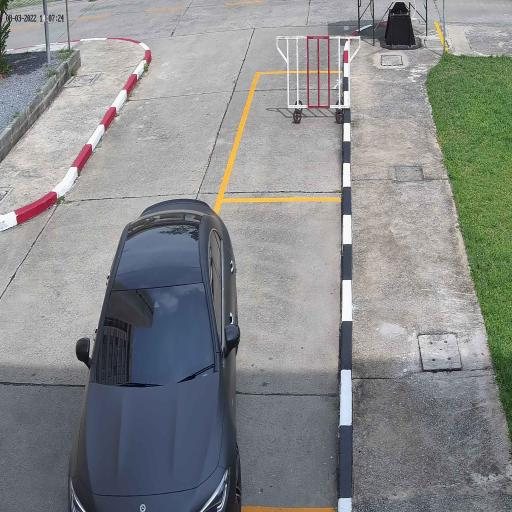car: (68, 200, 240, 508)
